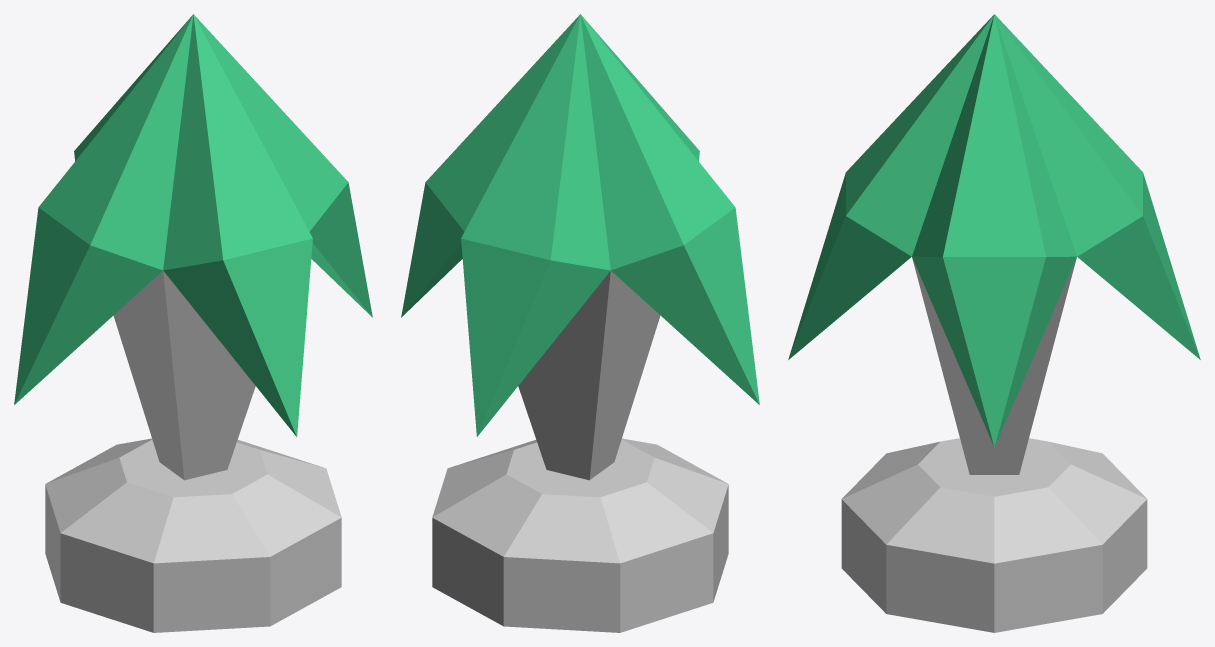
File: item_booster_speed.fbx
3 views of the same model, side by side, from view 1: azimuth 30°, elevation 25°; view 2: azimuth 150°, elevation 25°; view 3: azimuth 270°, elevation 25° (orthographic).
Parts seen in each view (by area): view 1: Cube; view 2: Cube; view 3: Cube.
Part boxes in pixels (x1,y1,x2,y2): Cube: (14, 14, 372, 632); Cube: (401, 14, 759, 632); Cube: (788, 14, 1200, 632).
Size of the model in its own units: 270 by 400 by 270.
